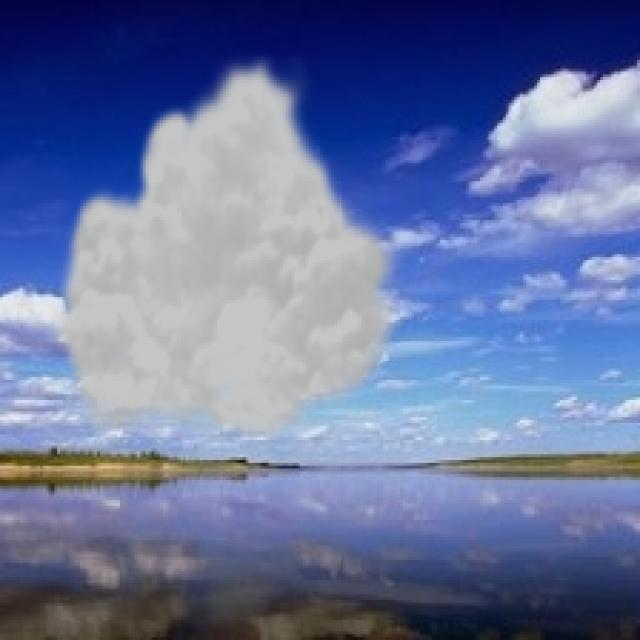Smoke: (51, 51, 406, 446)
